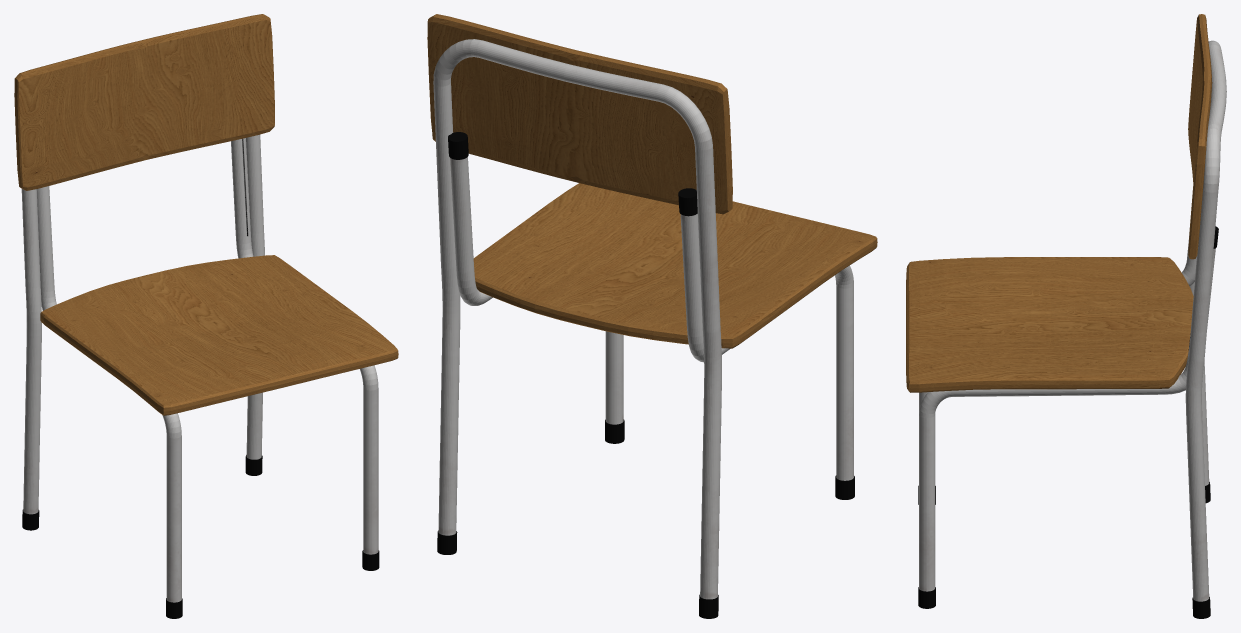
The model's file is Kursi AKL.fbx.
The picture shows the model from 3 angles, left to right: view 1: azimuth 30°, elevation 25°; view 2: azimuth 150°, elevation 25°; view 3: azimuth 270°, elevation 25°; orthographic projection. The views are drawn at different scales.
Visible parts, largest first — view 1: Bottom, UpPlank, Pipe, SecPipe; view 2: Bottom, UpPlank, SecPipe, Pipe; view 3: Bottom, SecPipe, Pipe, UpPlank.
Part boxes in pixels (bbox=[...]): Bottom: bbox=[40, 255, 398, 415]; UpPlank: bbox=[14, 14, 274, 190]; Pipe: bbox=[36, 138, 379, 618]; SecPipe: bbox=[21, 134, 264, 530]; Bottom: bbox=[473, 183, 877, 348]; UpPlank: bbox=[427, 14, 732, 214]; SecPipe: bbox=[433, 39, 721, 618]; Pipe: bbox=[448, 132, 854, 499]; Bottom: bbox=[906, 257, 1193, 392]; SecPipe: bbox=[1185, 40, 1226, 618]; Pipe: bbox=[918, 226, 1218, 608]; UpPlank: bbox=[1188, 14, 1212, 259].
Size of the model in its own units: 236 by 403 by 243.
